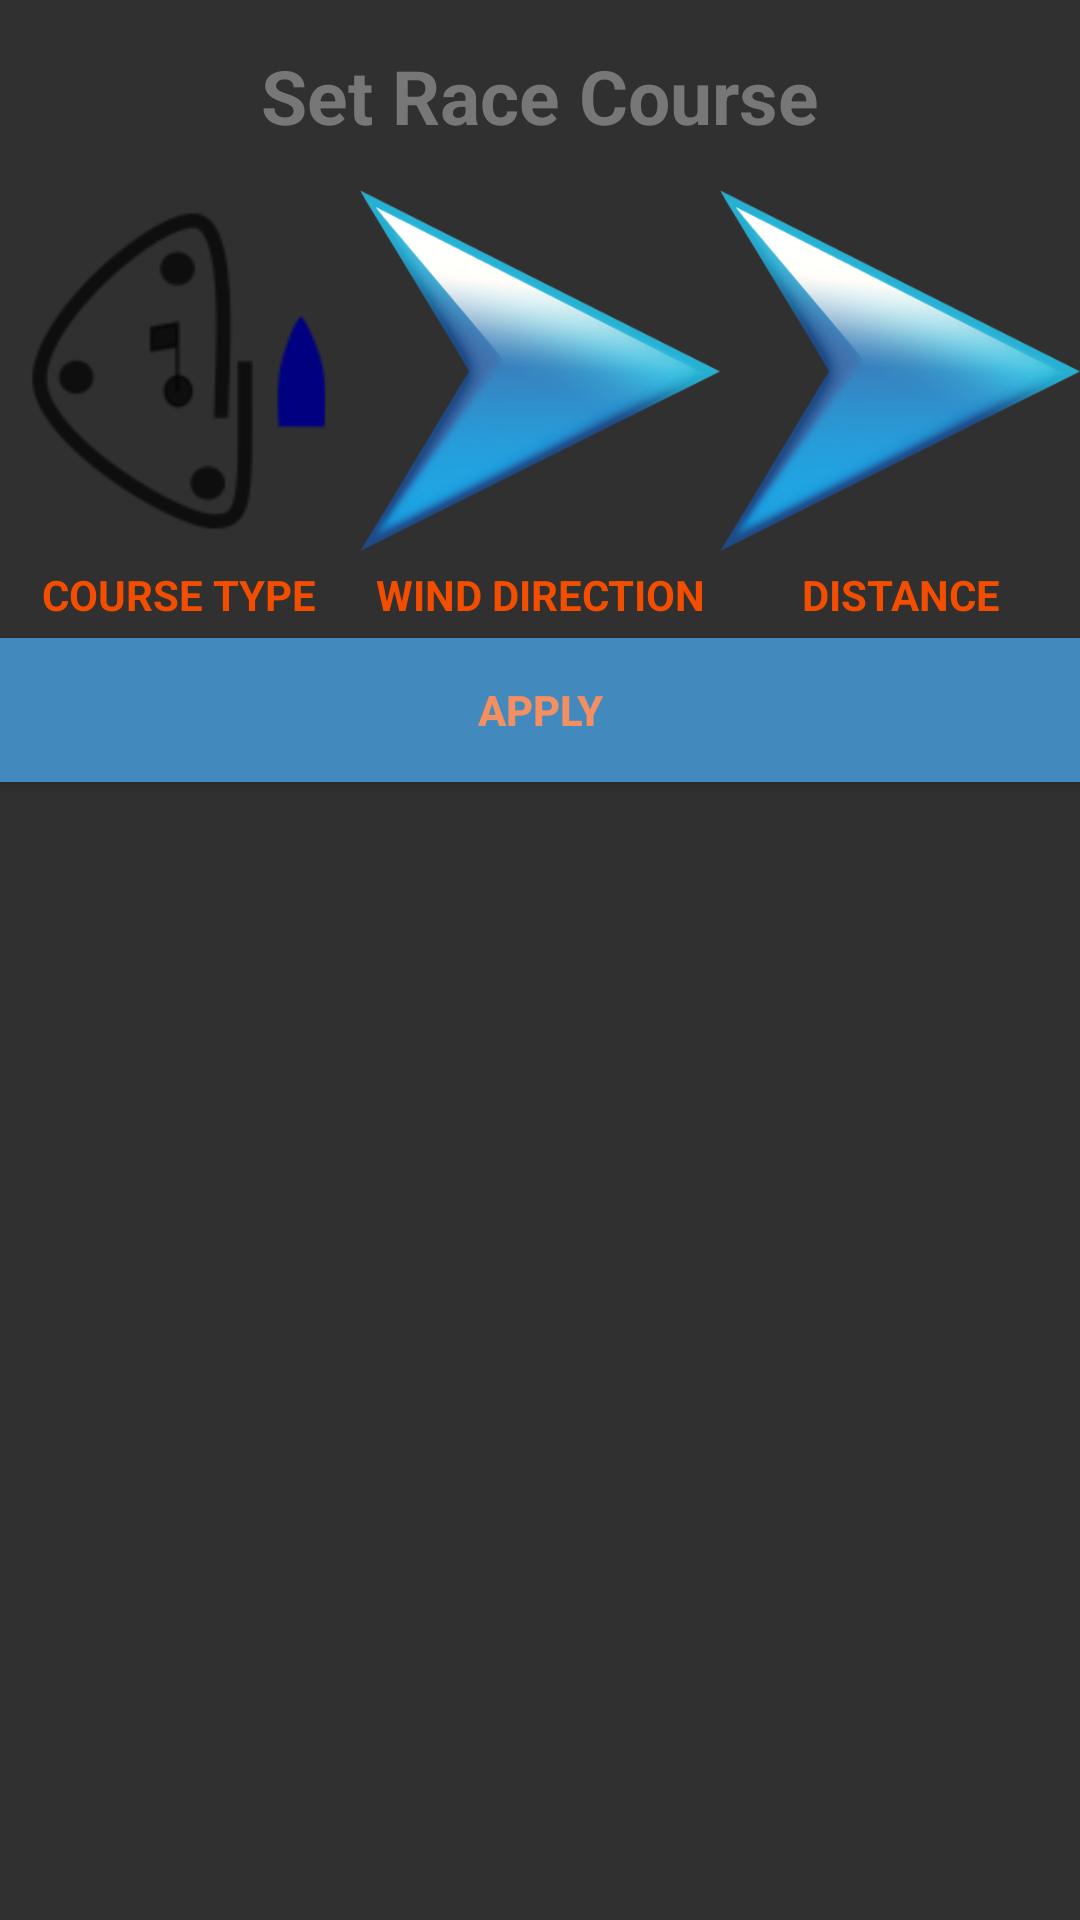

Icon click points for this 1080×1920 phone screenshot, format (x,y):
arrow: (540,371), (900,371)
